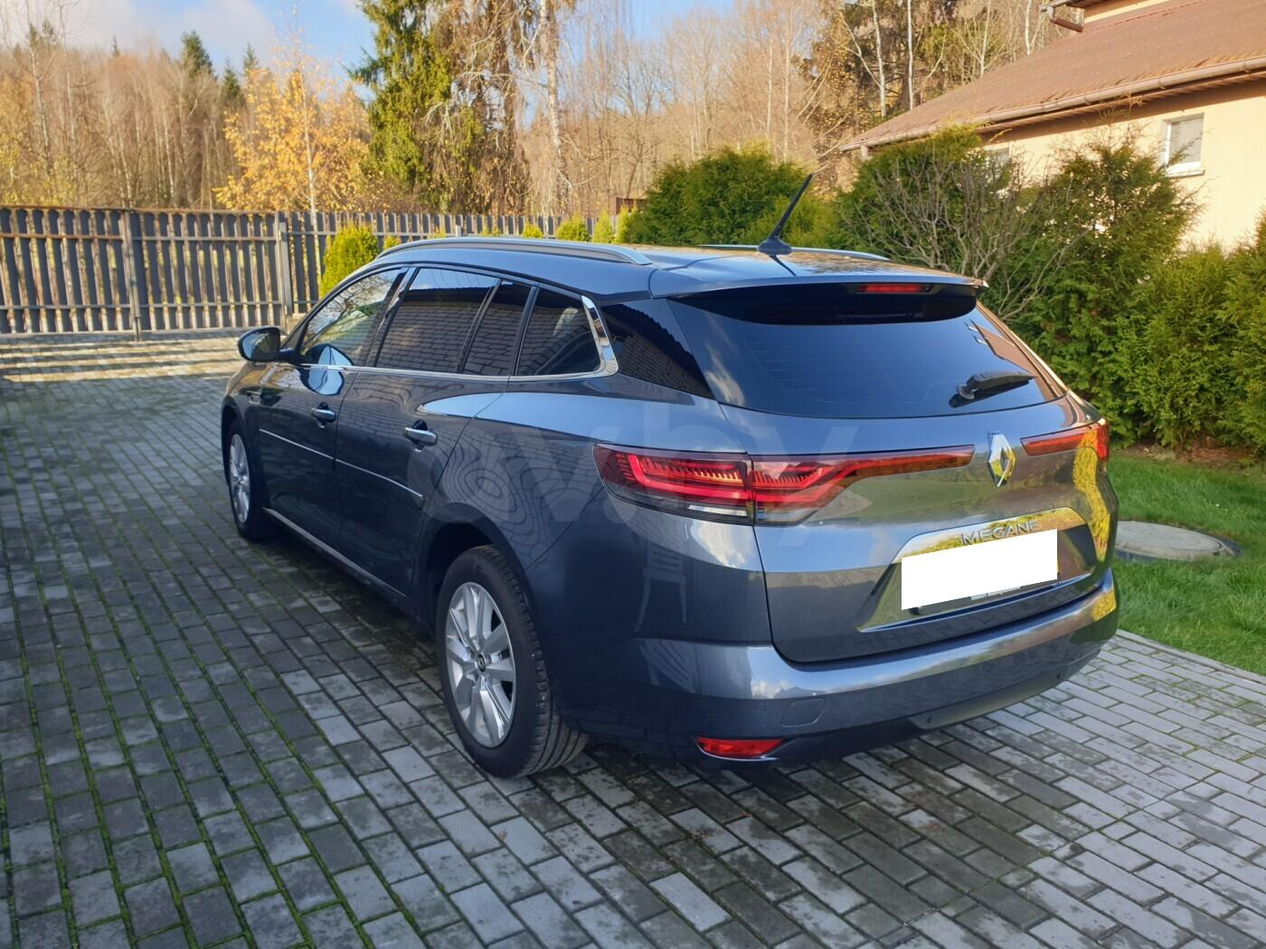Megane_2020: (209, 230, 1117, 810)
